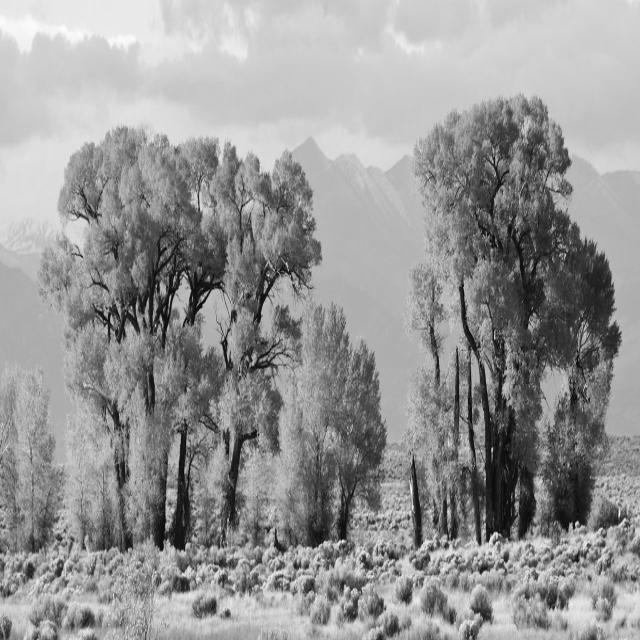Populus angustifolia: (44, 120, 381, 549), (384, 80, 626, 523)
